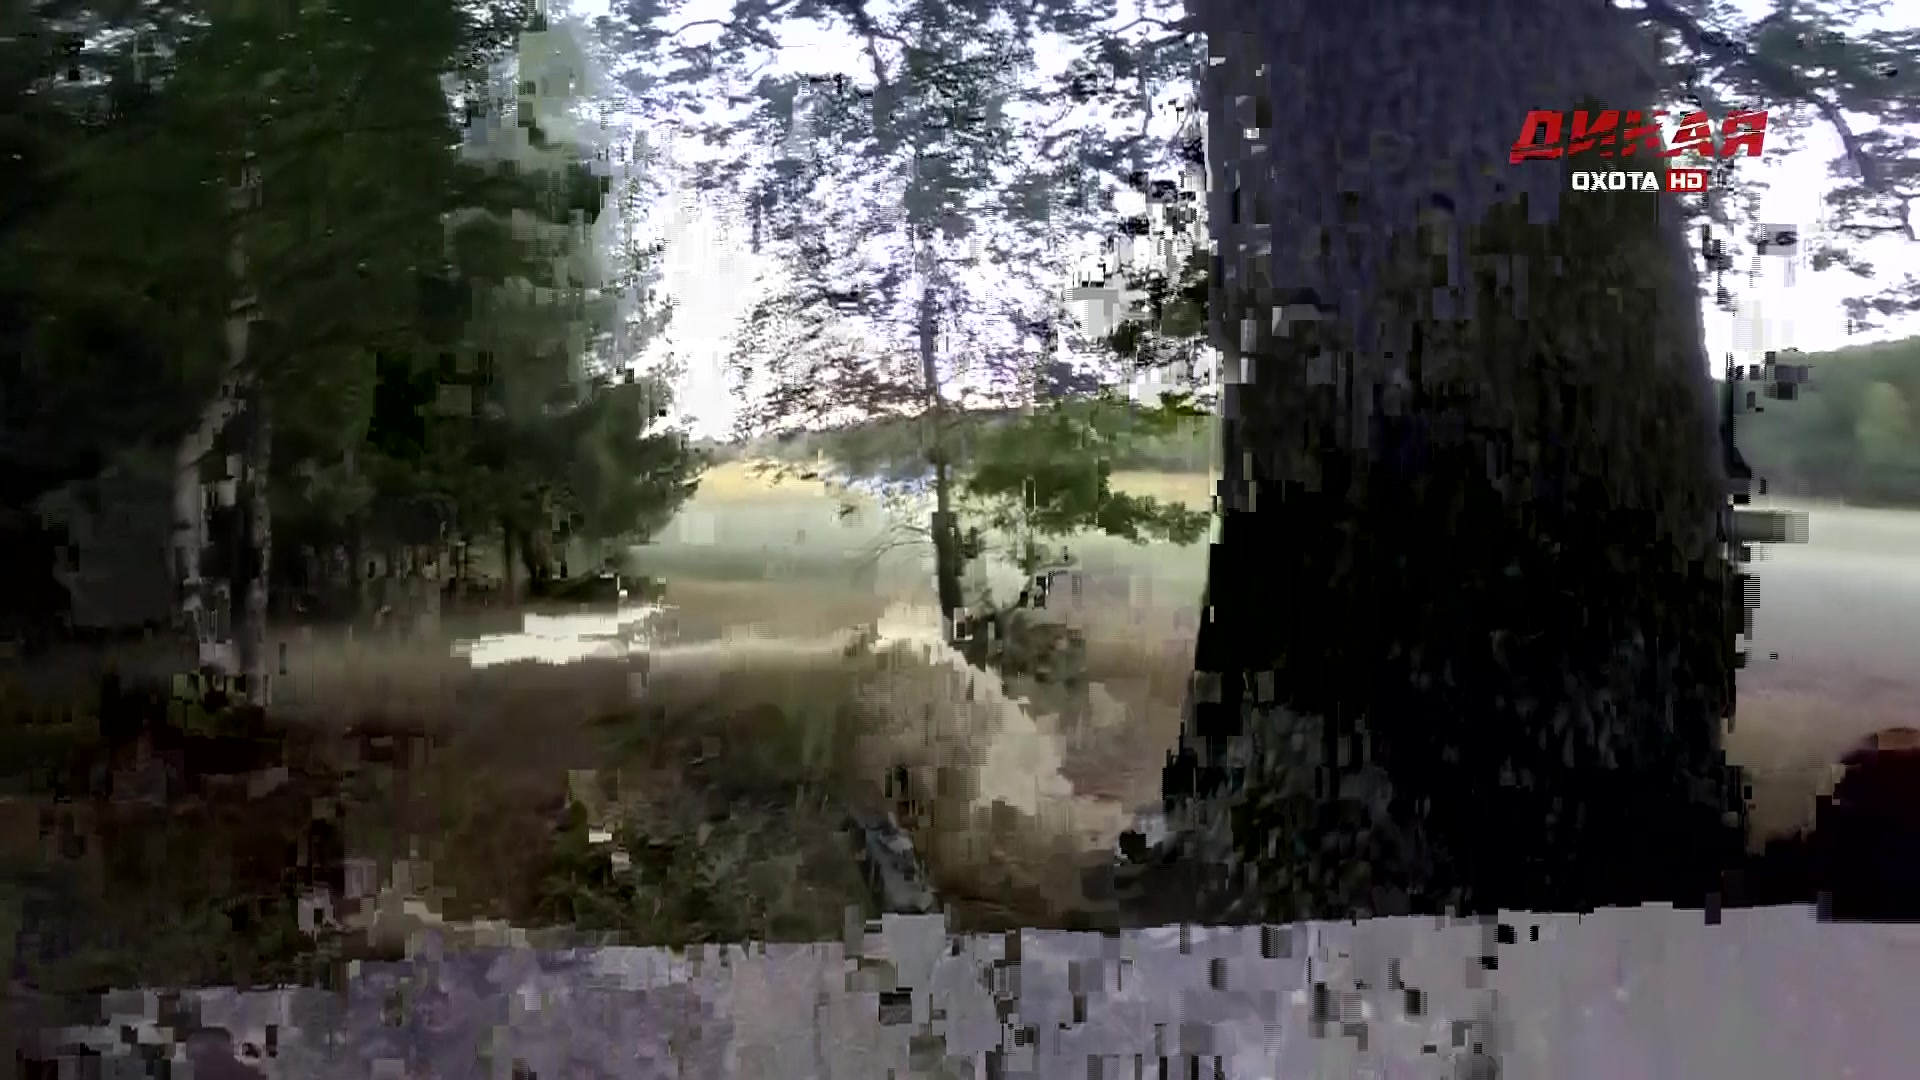Dikaya_Ohota_HD: (1503, 104, 1778, 199)
